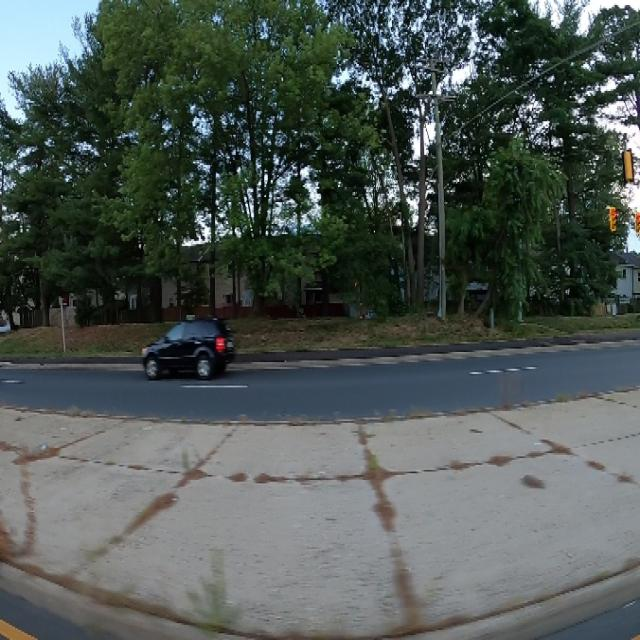car: (134, 307, 240, 389)
